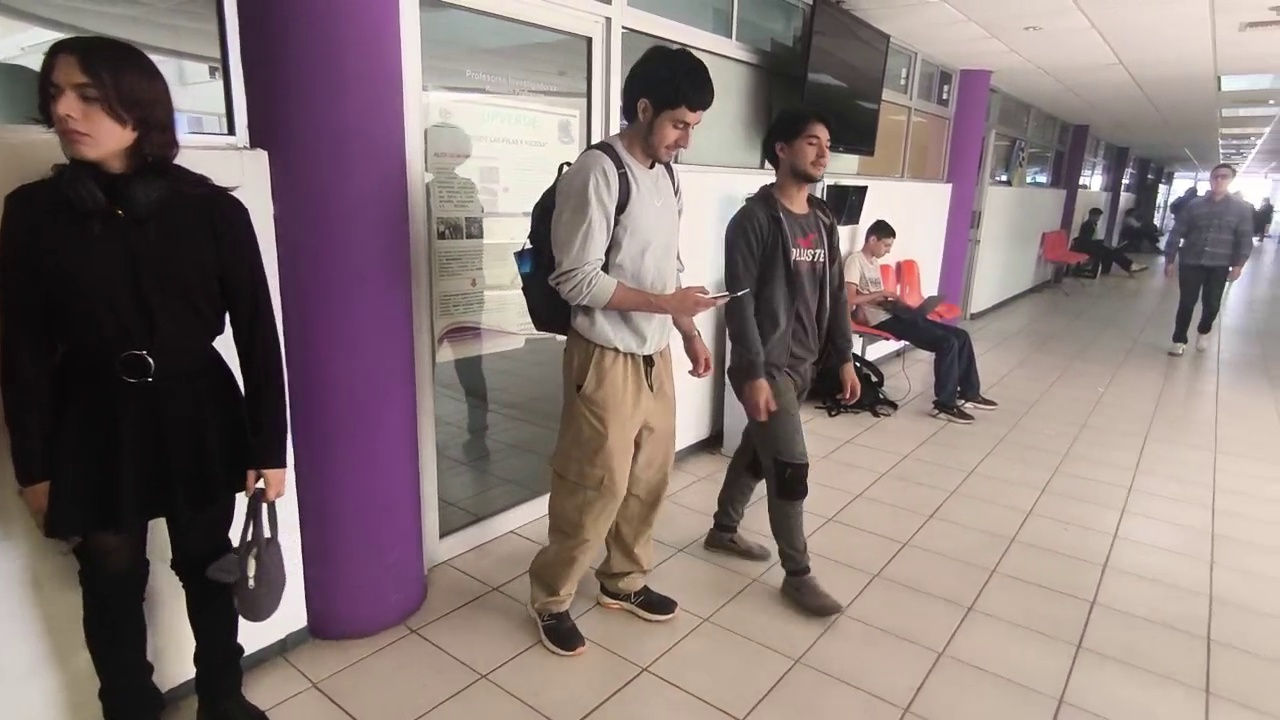mixto2: (702, 285, 753, 303)
